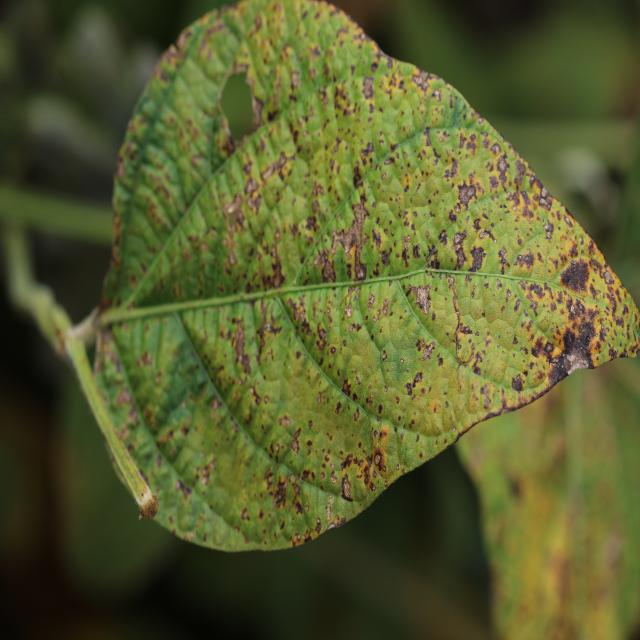Bacterial_Blight: (551, 241, 605, 303), (558, 309, 604, 373), (255, 306, 282, 367), (231, 318, 250, 373), (261, 150, 289, 181), (267, 248, 286, 289), (408, 284, 432, 315), (315, 247, 335, 284), (371, 442, 388, 481), (288, 296, 309, 327), (195, 459, 216, 489), (456, 181, 478, 208), (272, 473, 289, 507), (469, 245, 487, 273), (513, 250, 535, 272), (114, 386, 133, 409), (406, 371, 424, 395), (513, 159, 527, 189), (479, 382, 494, 409), (340, 474, 354, 502), (175, 477, 192, 499), (425, 243, 439, 268), (362, 76, 376, 100), (419, 340, 435, 361), (244, 177, 260, 198), (471, 351, 484, 376), (360, 140, 374, 162), (379, 246, 392, 267), (511, 373, 524, 393), (496, 156, 509, 176), (543, 221, 555, 240), (355, 261, 367, 280), (277, 413, 292, 428), (301, 468, 315, 484), (140, 350, 152, 368), (290, 435, 300, 456), (341, 377, 352, 396), (317, 326, 327, 344), (447, 208, 458, 223), (431, 87, 442, 102), (367, 293, 376, 310), (490, 142, 501, 155), (382, 298, 390, 315), (349, 322, 360, 334), (241, 507, 250, 521), (353, 407, 361, 422), (181, 424, 190, 437), (315, 518, 322, 534), (330, 472, 338, 485), (316, 391, 323, 405), (335, 402, 342, 415), (514, 298, 521, 311), (381, 349, 388, 361), (258, 508, 265, 520), (377, 403, 383, 415), (308, 419, 313, 430)
Soybean: (56, 0, 640, 551)
